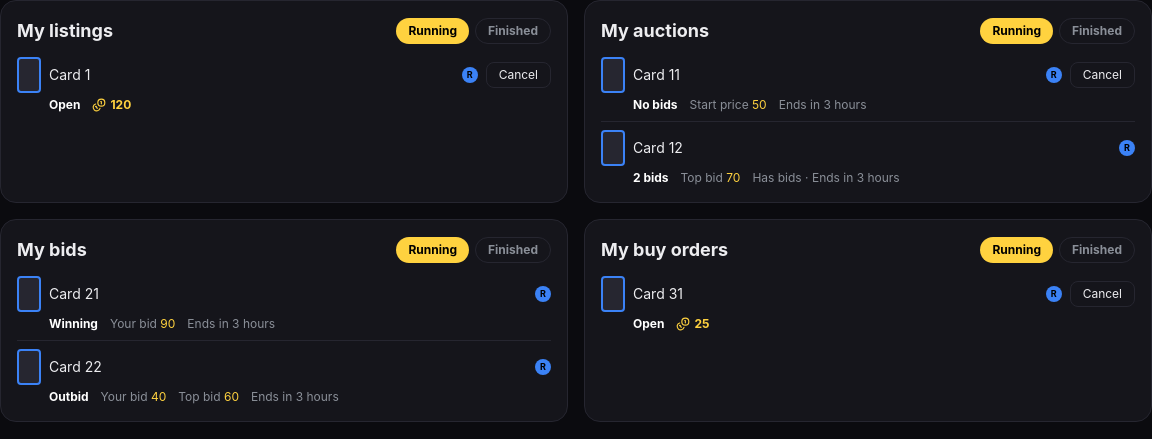
ActivityTab › shows running items per section and finished ones on demand
Expected: the element "My listings" shows "Card 1", [49,66,90,83]
Expected: the element "My listings" does not show "Card 2", [0,0,568,203]
Click the button "Finished" in the row of "My listings": (513,31) [475,18,551,44]
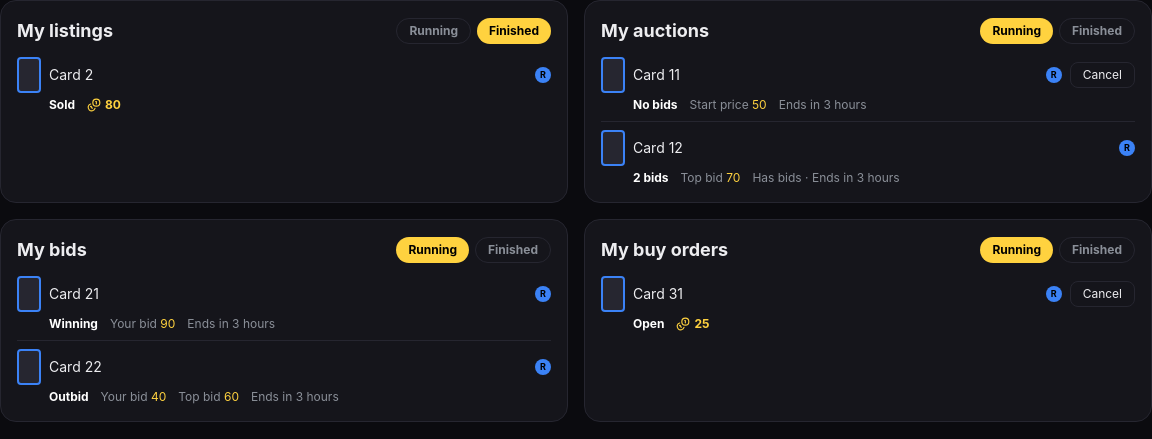
Expected: the element "My listings" does not show "Card 1", [0,0,568,203]
Expected: the element "My listings" shows "Card 2", [49,66,93,83]
Expected: the element "My listings" shows "Sold", [49,97,75,112]
Click the button "Finished" in the row of "My bids": (513,250) [475,237,551,263]
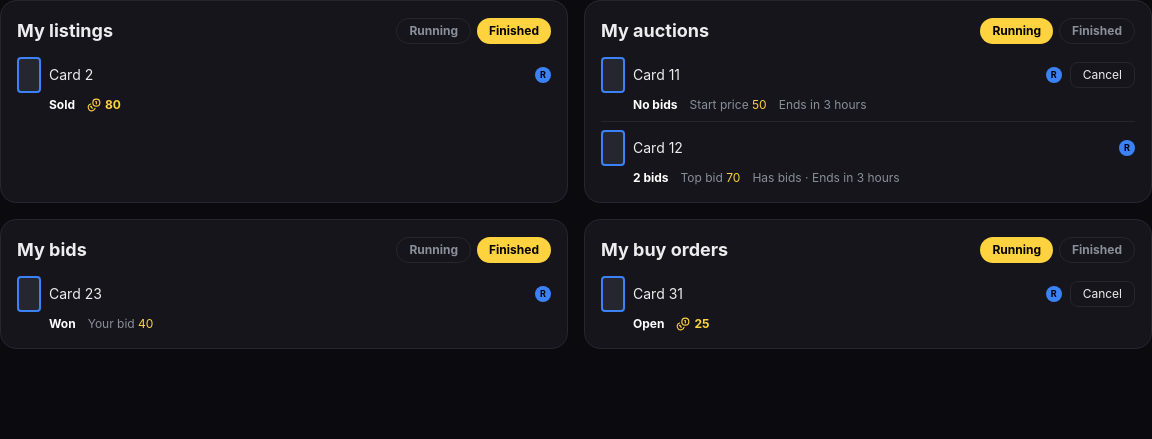
Expected: the button with aria-label "Cancel Card 11" is shown, [1070,62,1135,88]
Expected: the element "My bids" shows "Won", [49,316,76,331]
